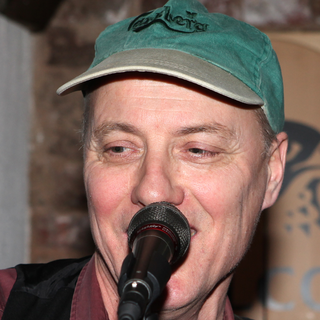eye: (175, 141, 224, 164), (96, 139, 143, 162)
